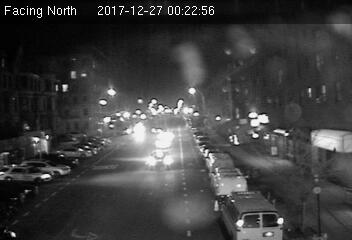car: (145, 151, 173, 169)
truck: (221, 188, 286, 240), (211, 166, 245, 197)
